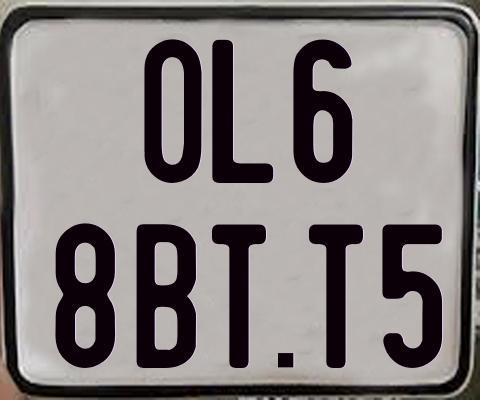0: (142, 37, 205, 185)
5: (381, 222, 443, 368)
6: (291, 36, 351, 185)
8: (52, 222, 112, 367)
B: (135, 224, 197, 369)
L: (211, 37, 274, 185)
T: (212, 221, 272, 367), (309, 222, 368, 369)
